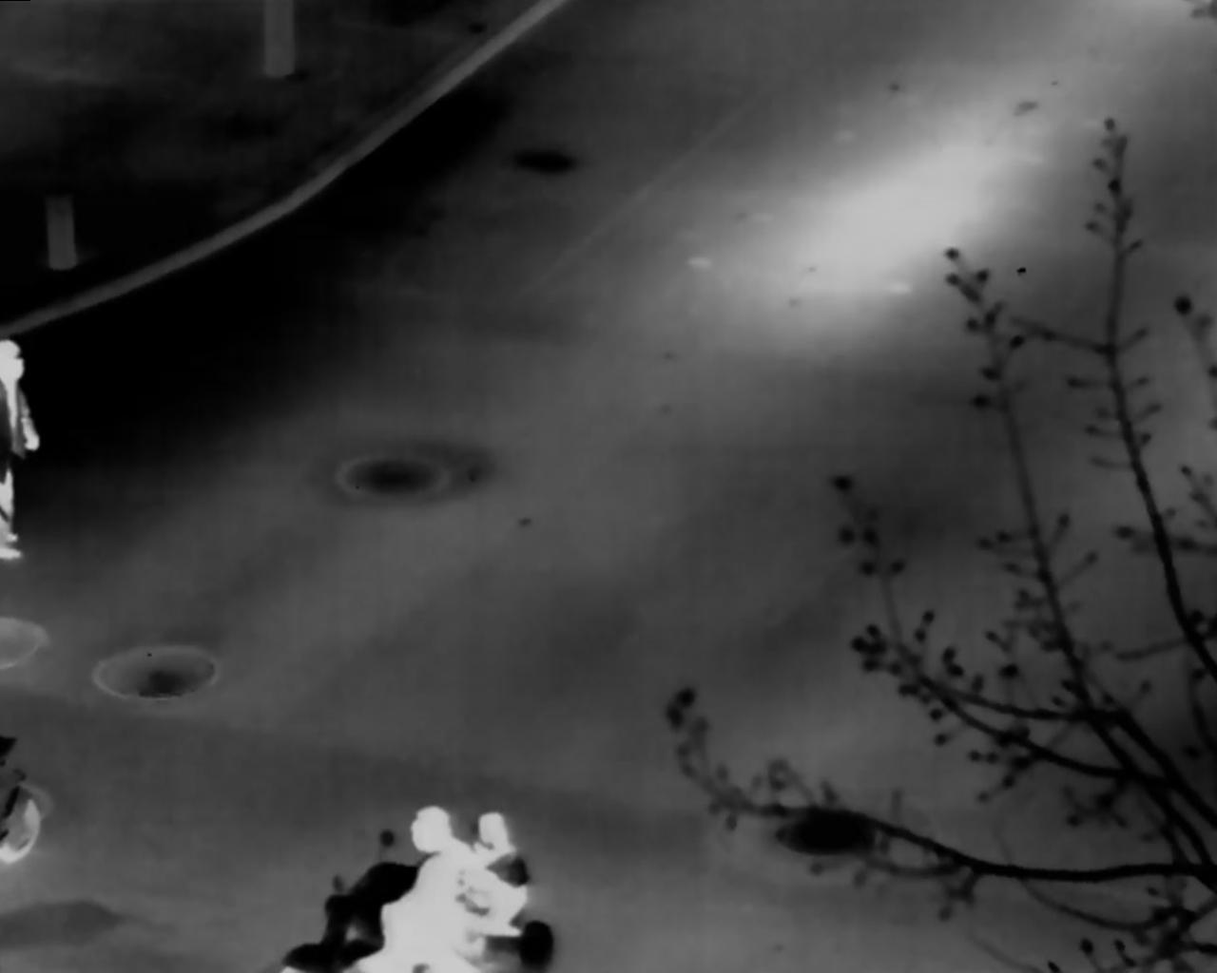person: (352, 802, 531, 973), (2, 339, 40, 563)
